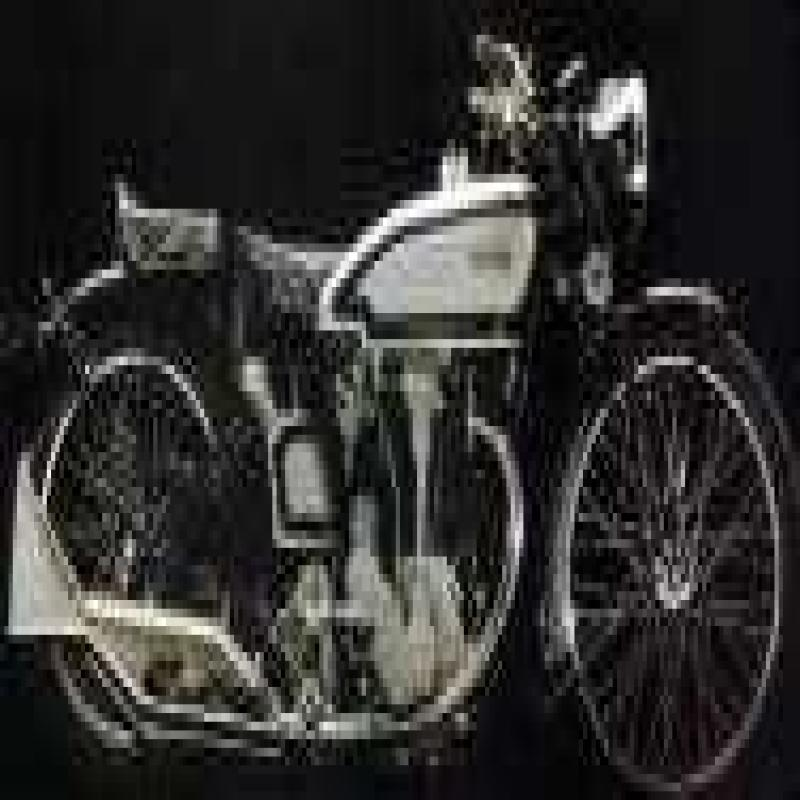bike: (9, 0, 787, 800)
